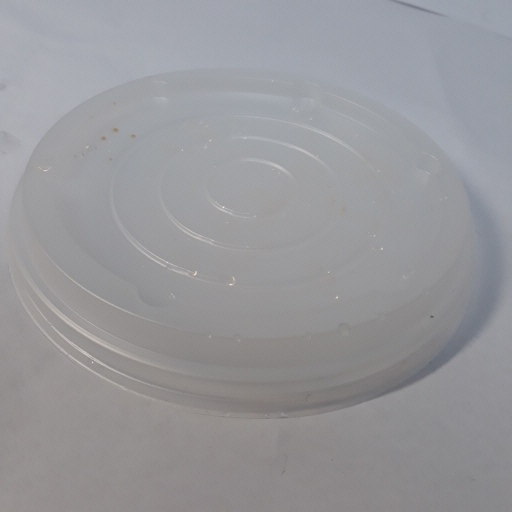Plastic_5: (4, 68, 490, 420)
